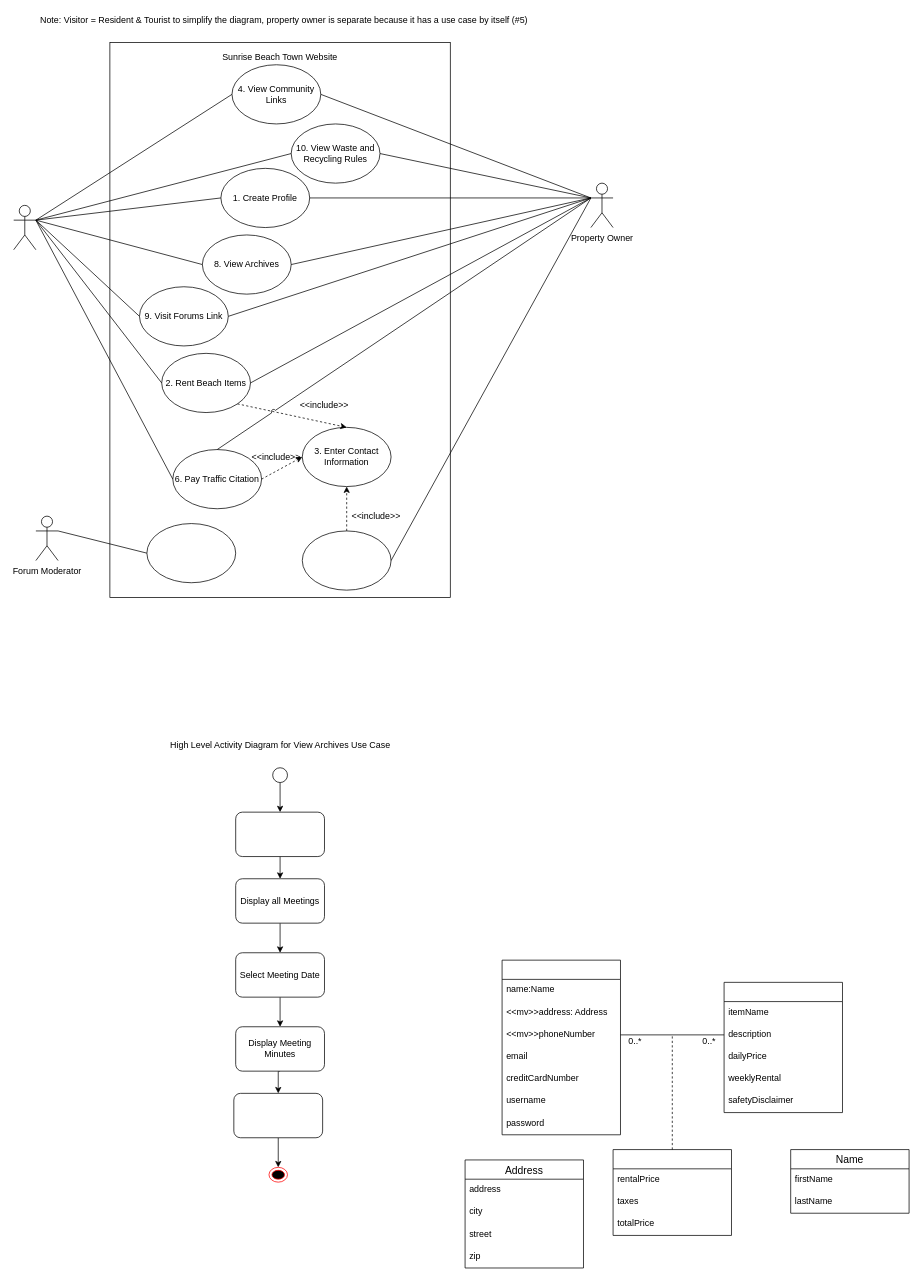
Image size: 922x1282. Some labels were removed from this diagram. The shapes that lost their labels are listed below. From the top down, each one's box as (x1, y1, x2, y2) in pixels, then its label:
(13, 205, 36, 250): Visitor
(146, 523, 236, 583): 7. Manage Forums
(302, 530, 391, 590): 5. Schedule Yearly Inspections
(235, 811, 324, 857): Select View Archives
(501, 959, 620, 1135): Profile
(723, 982, 842, 1113): Items
(233, 1093, 323, 1138): Close Archives
(612, 1149, 731, 1235): Basket
